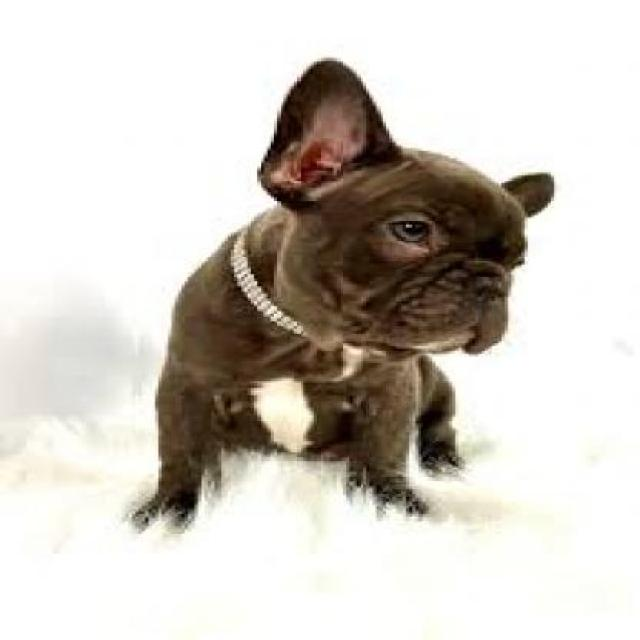animals: (148, 50, 563, 550)
